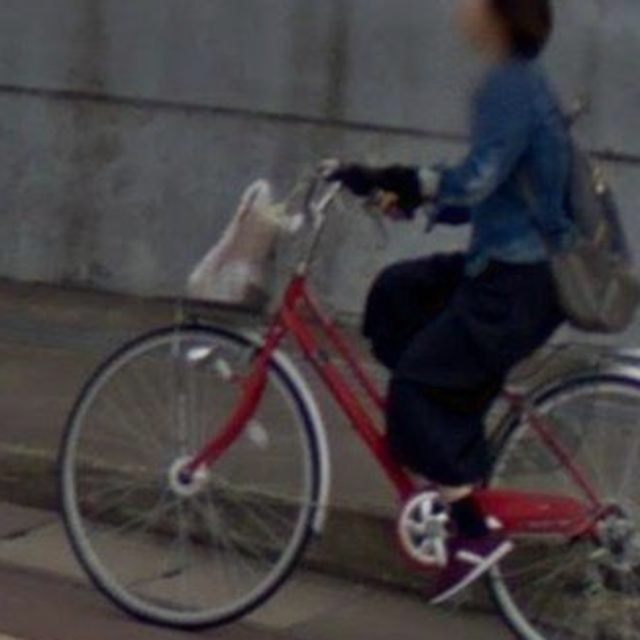bicycle: (25, 141, 640, 631)
